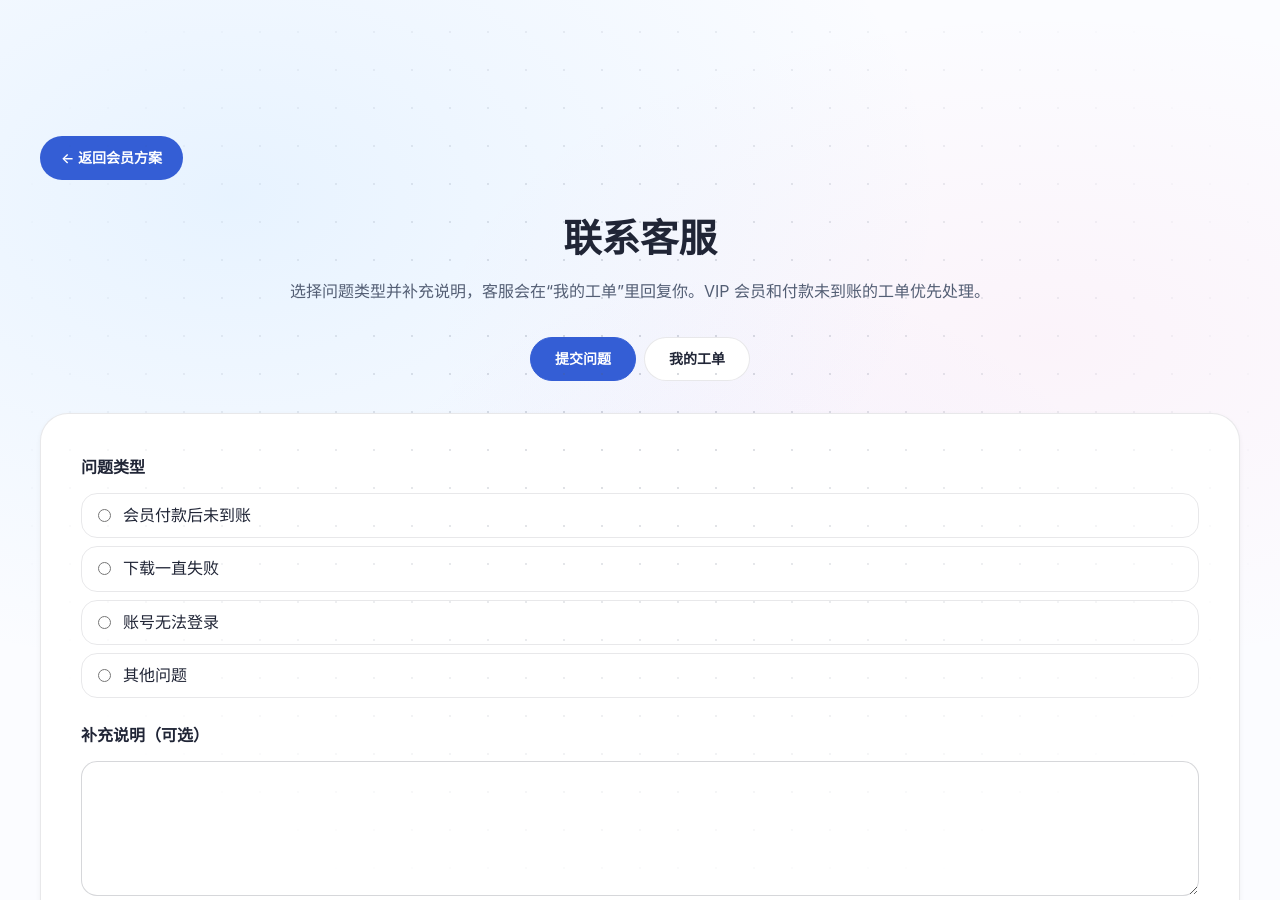
Scenario: SupportScene › shows ticket state and the reply text
Click the tab "我的工单" at (697, 359), box top-left (644, 337), bottom-right (750, 381)
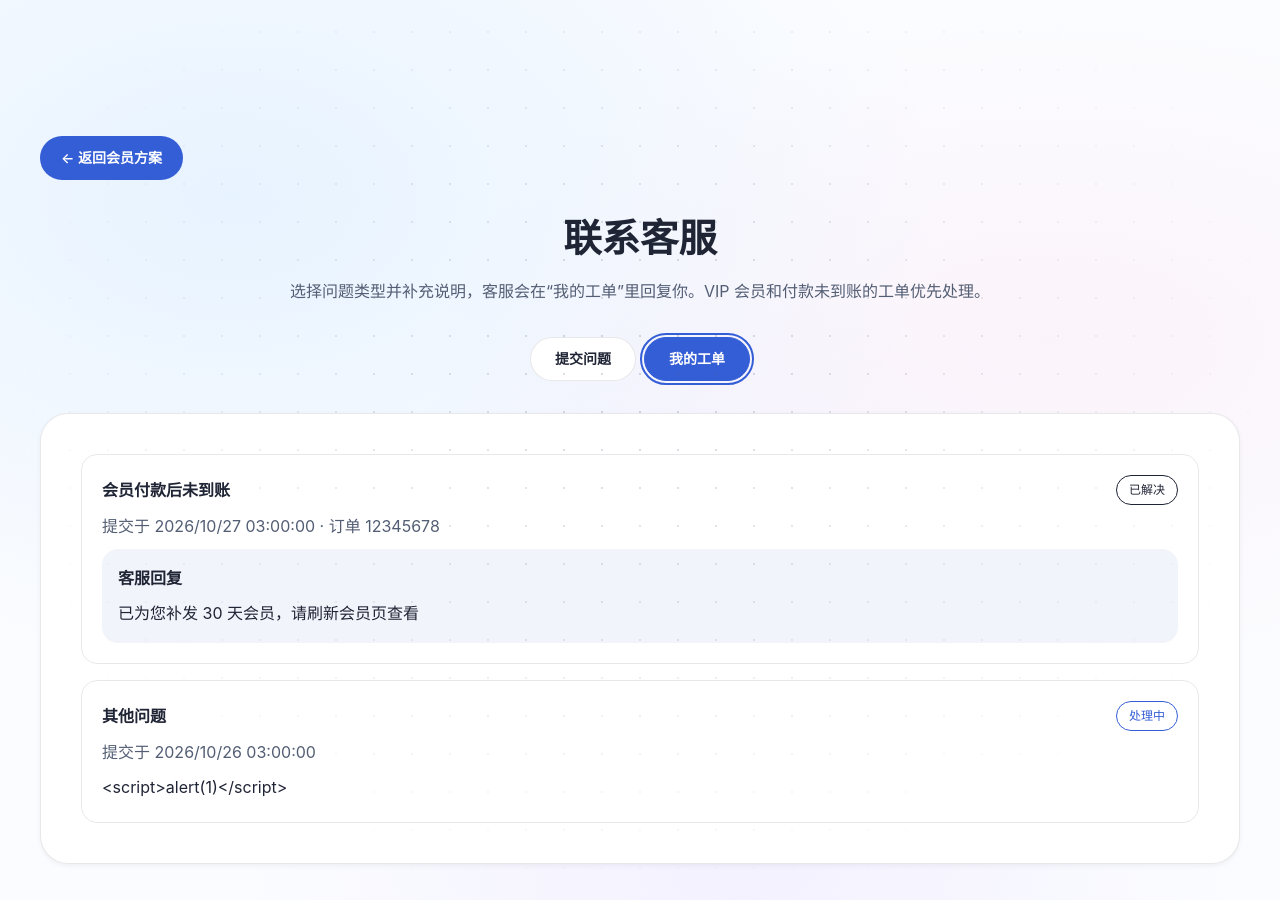
Now the text "已解决" is shown, box top-left (1116, 475), bottom-right (1178, 505)
Now the text "已为您补发 30 天会员，请刷新会员页查看" is shown, box top-left (118, 603), bottom-right (419, 623)
Now the text "处理中" is shown, box top-left (1116, 701), bottom-right (1178, 731)
